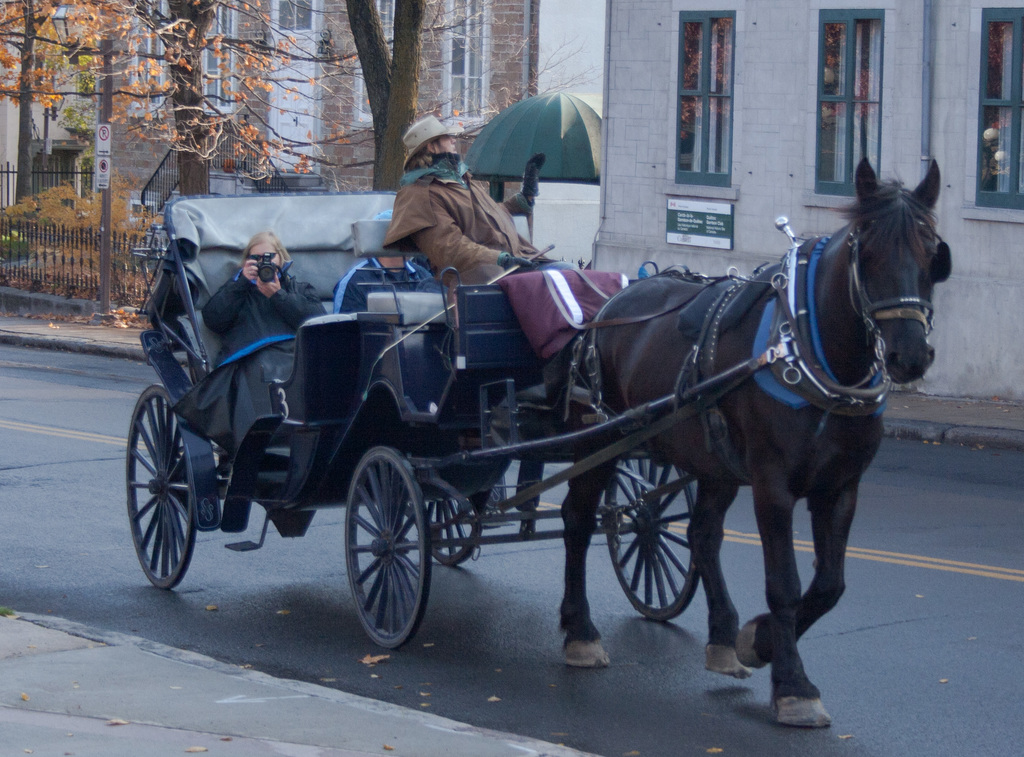horse: (558, 156, 951, 730)
